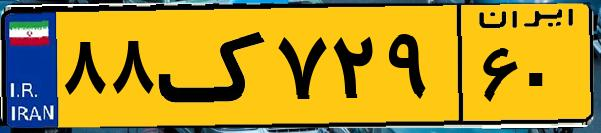0: (525, 38, 570, 115)
2: (330, 28, 385, 110)
6: (475, 38, 525, 113)
7: (270, 28, 330, 110)
8: (57, 26, 110, 100), (110, 28, 158, 98)
9: (385, 28, 445, 110)
ک: (158, 12, 270, 120)
